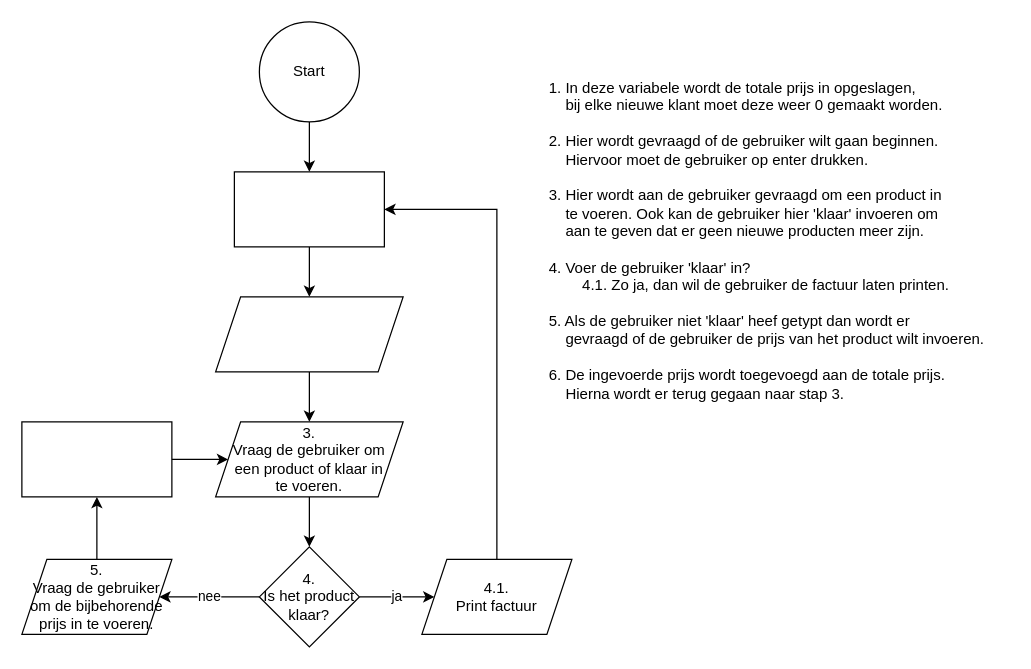
Image size: 1031x669. Some labels were removed from this diagram. The centre of each missing label's shape, as x and y in pixels:
1. Maak een variabele totaleprijs aan die begint op 0.: point 308,209
2. Vraag de gebruiker of hij wilt beginnen met het programma.: point 308,334
6. Voeg de prijst toe aan de totaleprijs.: point 96,459
